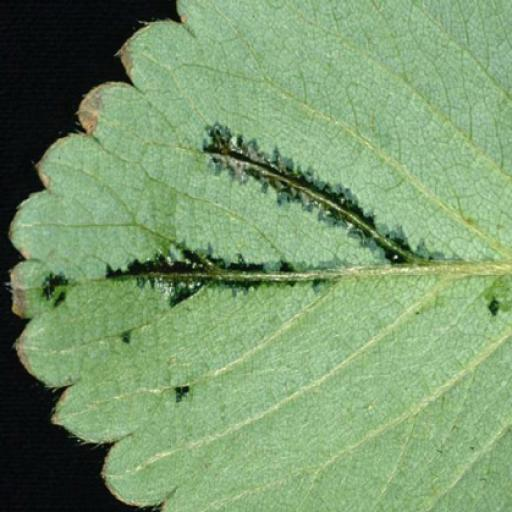Angular Leafspot: (32, 120, 511, 408)
